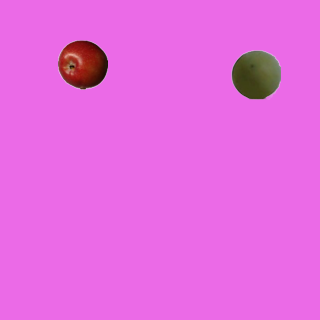Apple Braeburn: (57, 39, 107, 89)
Grape White 4: (230, 49, 280, 99)
